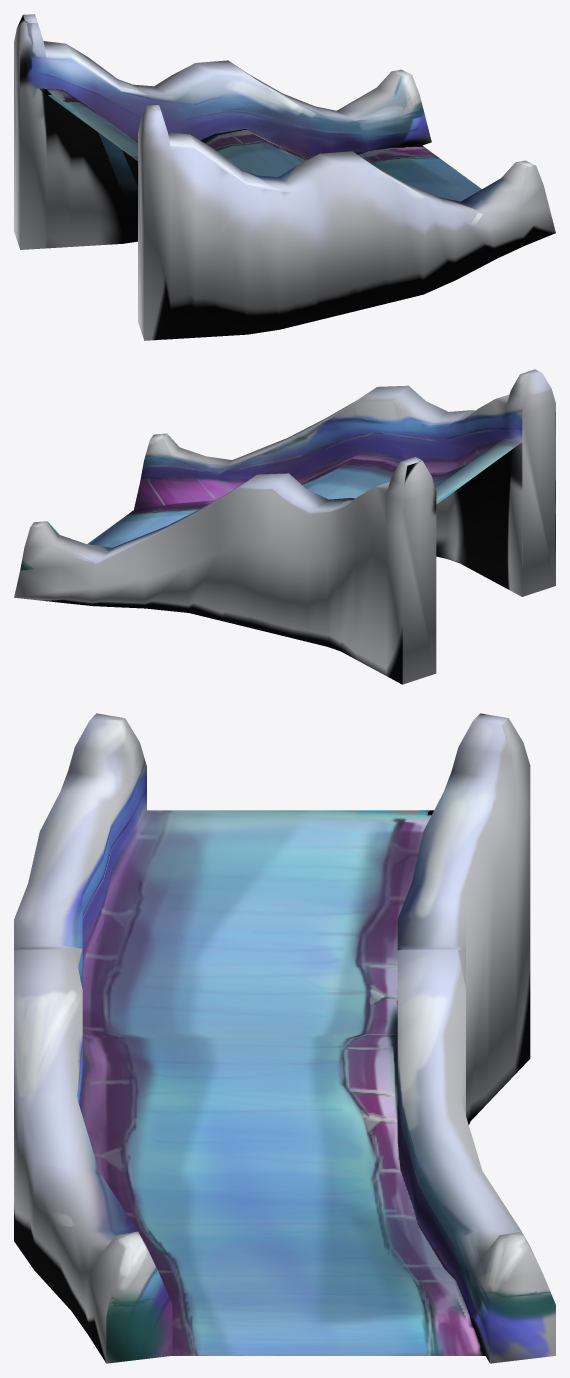
File: ramp.fbx
The picture shows the model from 3 angles, top to bottom: view 1: azimuth 30°, elevation 25°; view 2: azimuth 150°, elevation 25°; view 3: azimuth 270°, elevation 25°; orthographic projection. The views are drawn at different scales.
Parts seen in each view (by area): view 1: Cube.001; view 2: Cube.001; view 3: Cube.001.
Boxes of the visible parts, bbox=[...] form: Cube.001: bbox=[14, 14, 555, 340]; Cube.001: bbox=[14, 369, 555, 684]; Cube.001: bbox=[14, 713, 555, 1363].
Bounding box in the file's own units: 933 × 471 × 676.
1 material, 1 textured.
